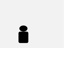human: (17, 22, 30, 45)
